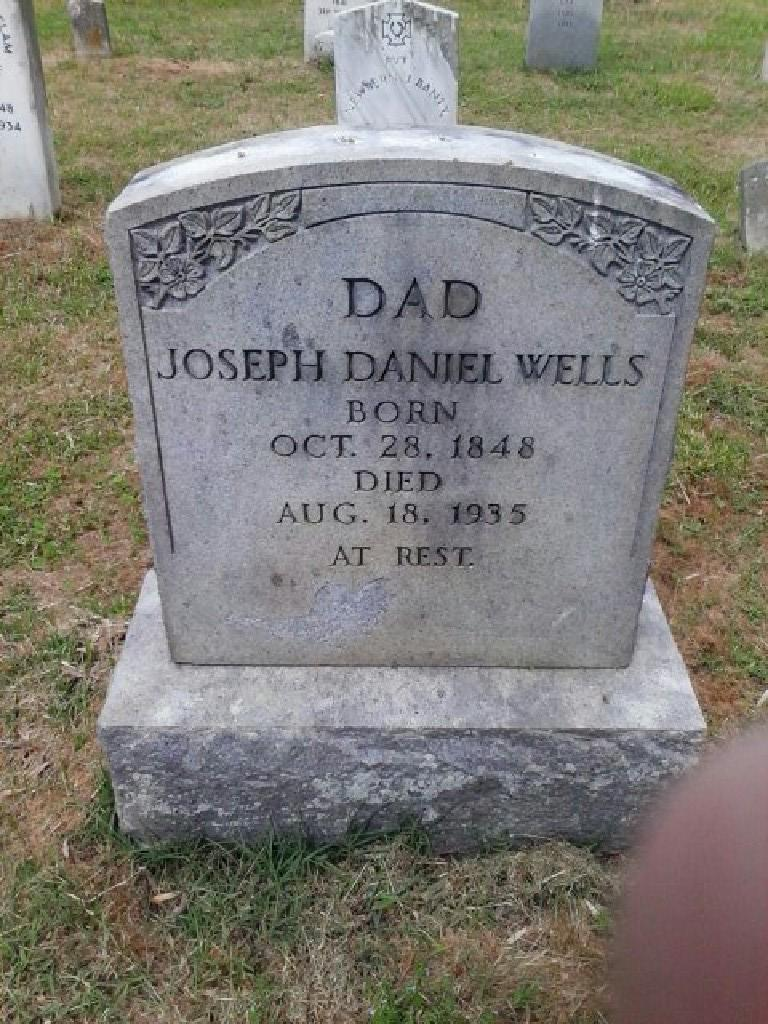upright: (112, 132, 709, 671)
